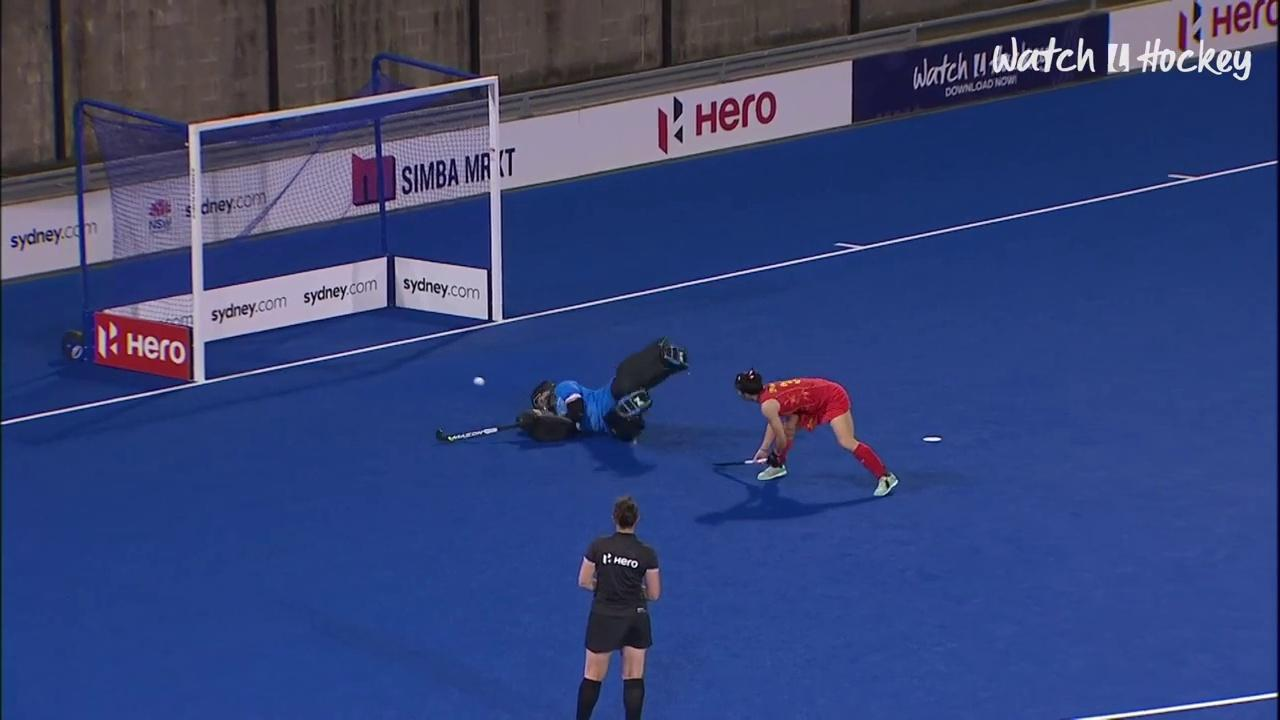ball: (462, 366, 492, 395)
